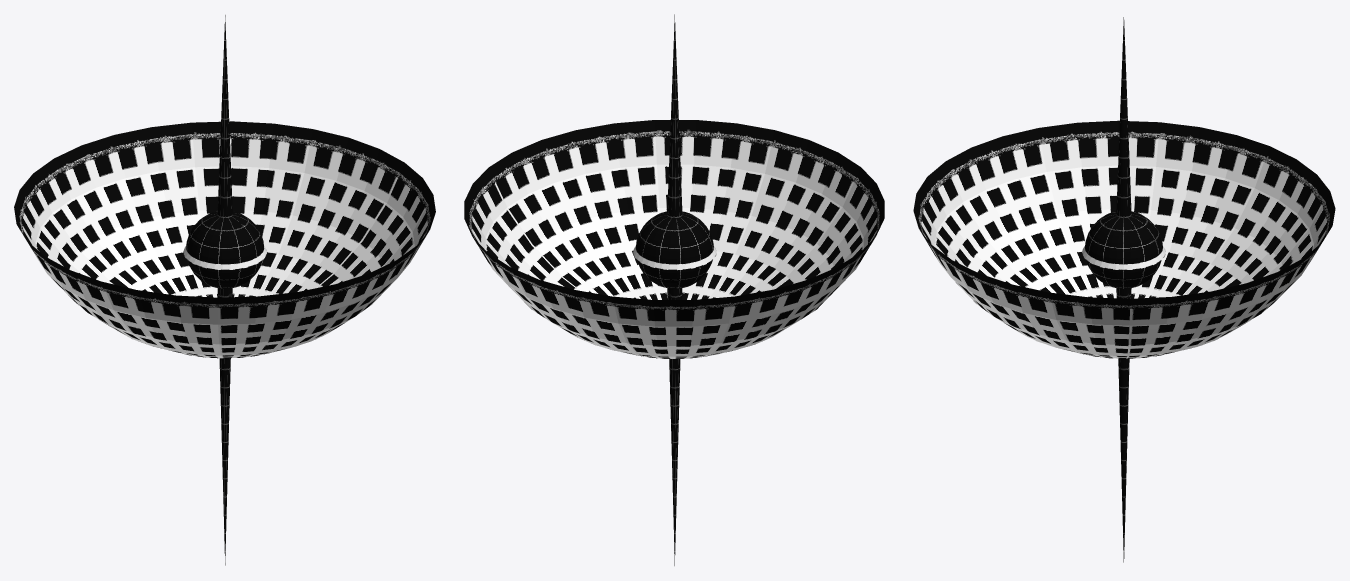
The model's file is gridroom2.fbx.
3 views of the same model, side by side, from view 1: azimuth 30°, elevation 25°; view 2: azimuth 150°, elevation 25°; view 3: azimuth 270°, elevation 25° (orthographic).
Parts seen in each view (by area): view 1: sphere1.002, Sphere, sphere1; view 2: sphere1.002, Sphere, sphere1; view 3: sphere1.002, Sphere, sphere1.
Boxes of the visible parts, box(x1,y1,x2,y2) form: sphere1.002: box(14, 121, 435, 358); Sphere: box(186, 15, 264, 565); sphere1: box(183, 246, 266, 270); sphere1.002: box(464, 120, 884, 358); Sphere: box(636, 14, 713, 565); sphere1: box(633, 246, 716, 270); sphere1.002: box(913, 120, 1335, 358); Sphere: box(1085, 17, 1162, 562); sphere1: box(1082, 246, 1165, 270).
Size of the model in its own units: 5004 by 7233 by 5003.
Materials: 3 (3 with a texture image).
